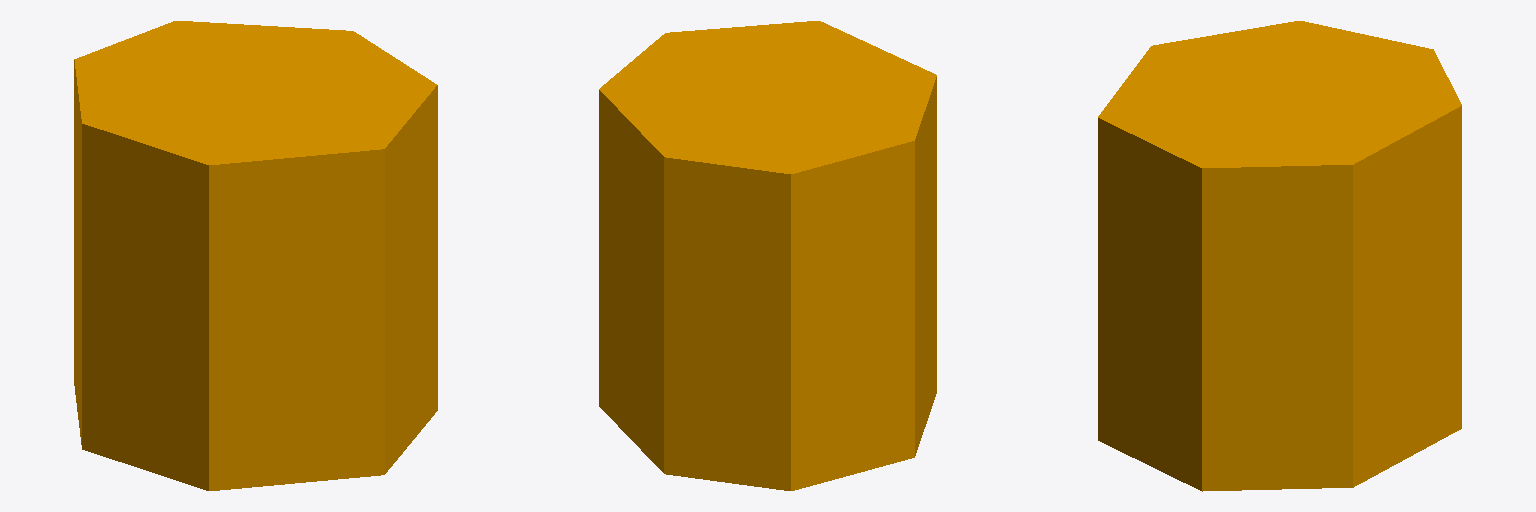
The robot description file, URDF, robot "object":
<?xml version="1.0"?>
<robot name="object">
  <link name="object">
    <visual>
      <origin xyz="0 0 0"/>
      <geometry>
        <mesh filename="meshes/generated/col_013.obj" scale="0.03 0.03 0.03"/>
      </geometry>
    </visual>
    <collision>
      <origin xyz="0 0 0"/>
      <geometry>
        <mesh filename="meshes/generated/col_013.obj" scale="0.03 0.03 0.03"/>
      </geometry>
    </collision>
    <inertial>
      <density value="1000.0"/>
    </inertial>
  </link>
</robot>

--- What the picture shows (computed from the rendered views, not written in the file) ---
3 views of the same robot in one strip: view 1: azimuth 30°, elevation 25°; view 2: azimuth 150°, elevation 25°; view 3: azimuth 270°, elevation 25° (orthographic).
Robot: object — 1 links, 0 joints (none); root link object; default pose: every joint at zero.
Visible links, largest first — view 1: object; view 2: object; view 3: object.
Boxes of the visible links, bbox=[...] form: object: bbox=[74, 21, 437, 490]; object: bbox=[599, 21, 936, 490]; object: bbox=[1098, 21, 1461, 491].
Size in the robot's own frame: 0.059 by 0.0614 by 0.06 metres.
1 mesh visuals loaded from 1 distinct referenced files (1 OBJ).
